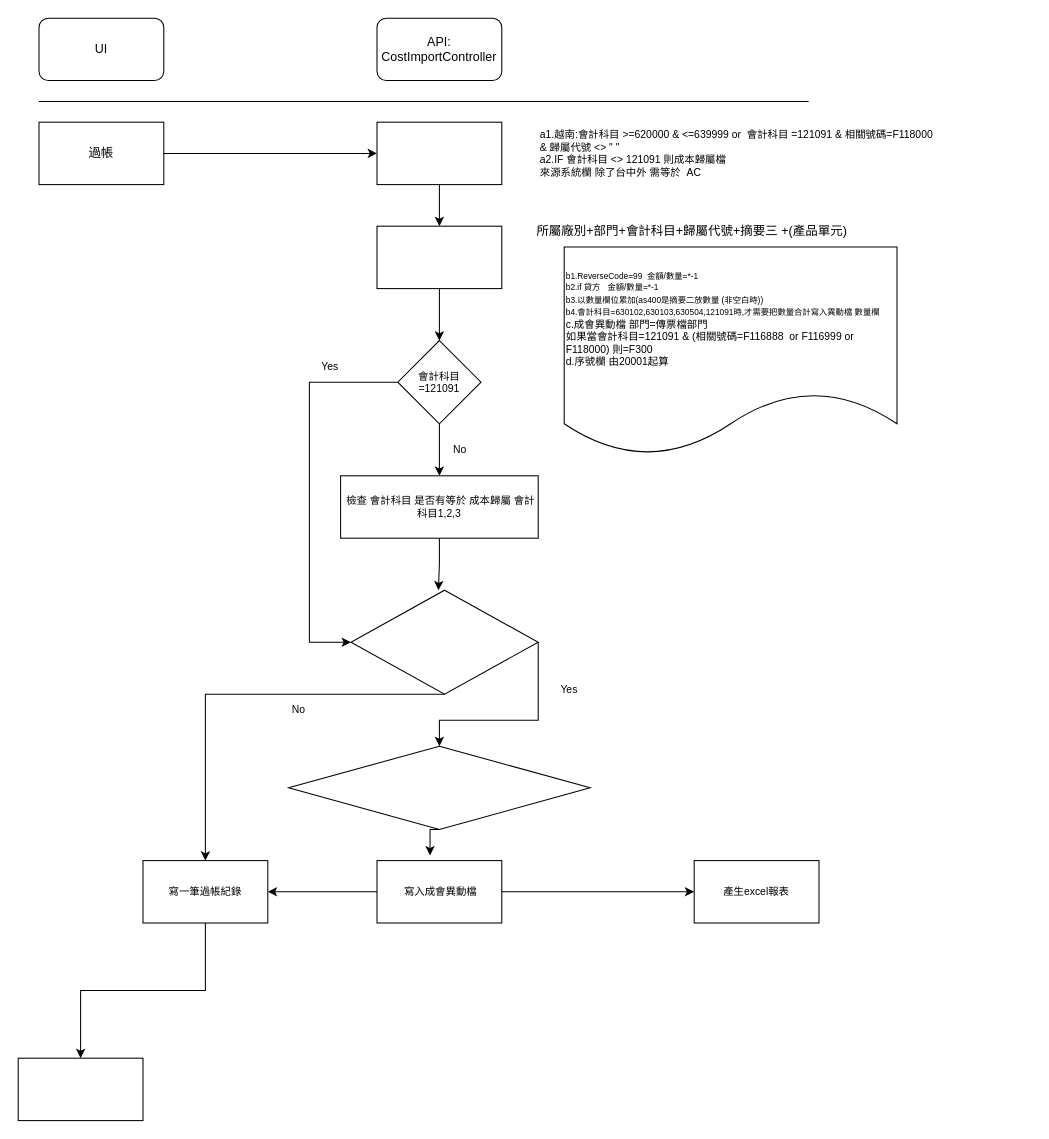
This 1049x1139 diagram has some shape labels left out. Here are the shapes that lost their labels. From the top down, the centre of each, then its label:
At point (439, 153): "以入帳年月取得傳票資料".
At point (439, 257): "彙總數量、金額".
At point (444, 641): "成本歸屬是否in成本歸屬檔".
At point (439, 787): "檢核 成會系統控制檔 總帳是否已經資料確認".
At point (80, 1089): "提示成功or錯誤訊息".
